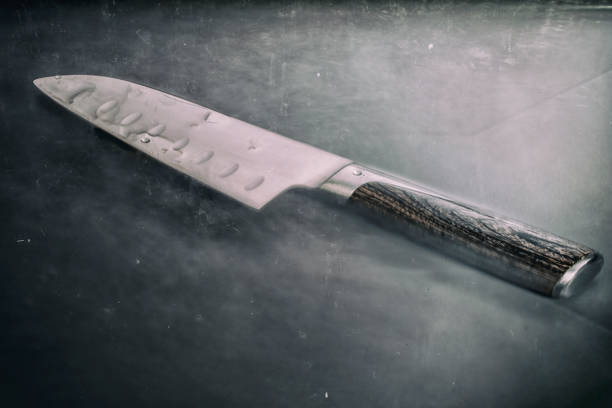knife: (30, 71, 606, 301)
